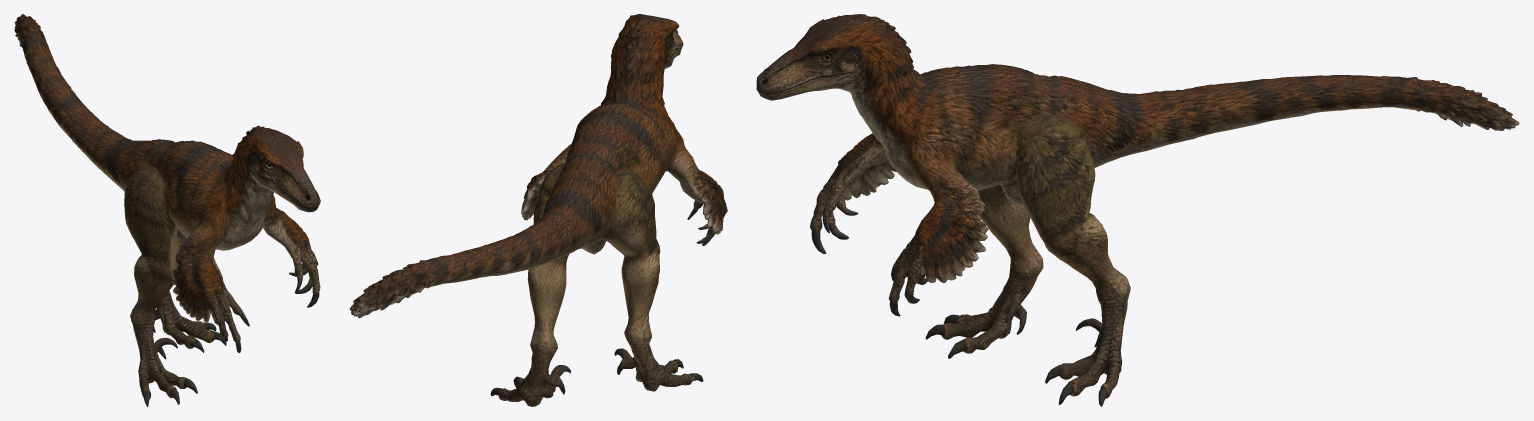
The model's file is raptor.glb.
3 renders of one model, left to right at view 1: azimuth 30°, elevation 25°; view 2: azimuth 150°, elevation 25°; view 3: azimuth 270°, elevation 25°, orthographic. The views are drawn at different scales.
Visible parts, largest first — view 1: dino; view 2: dino; view 3: dino.
Part boxes in pixels (x1,y1,x2,y2): dino: [14, 14, 320, 406]; dino: [349, 14, 727, 406]; dino: [756, 14, 1519, 406].
Size of the model in its own units: 1.09 by 1.85 by 3.5.
1 material, 1 textured.
